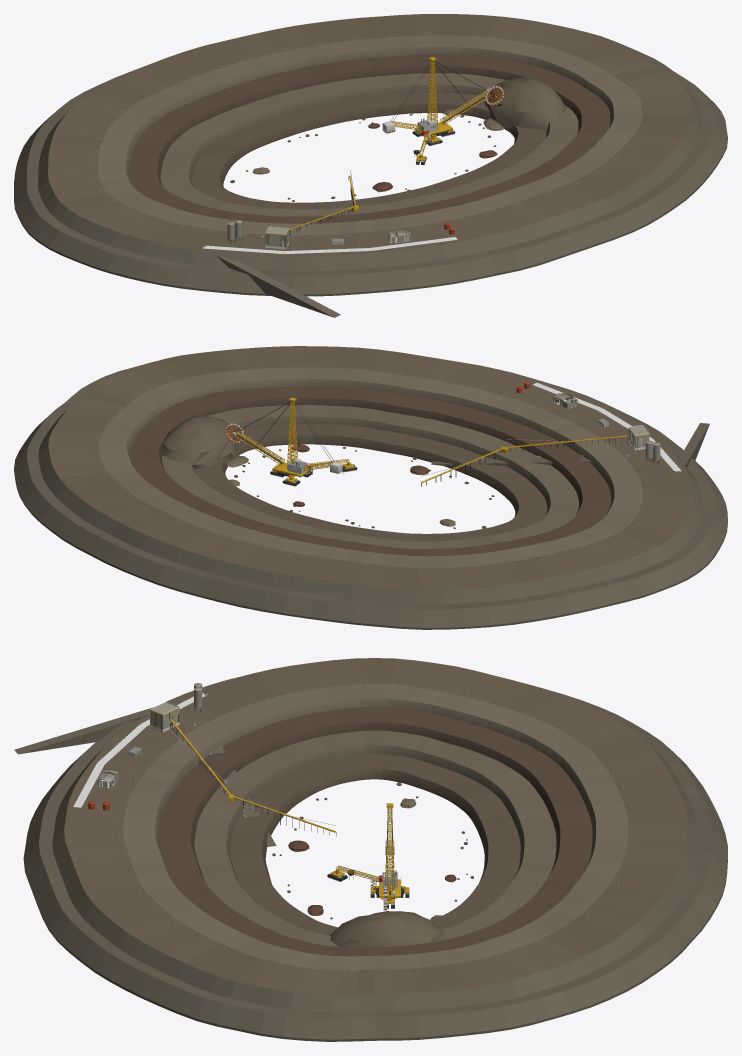
Rendered from bucket-wheel-pit.glb.
3 renders of one model, top to bottom at view 1: azimuth 30°, elevation 25°; view 2: azimuth 150°, elevation 25°; view 3: azimuth 270°, elevation 25°, orthographic. The views are drawn at different scales.
Visible parts, largest first — view 1: C2_0_lod0, C-2_-3_lod0, C0_1_lod0, C-3_-3_lod0, C1_-3_lod0, C-4_-1_lod0, C-1_1_lod0, C1_1_lod0, C-1_-3_lod0, C-4_-2_lod0, C0_-3_lod0, C-2_1_lod0 (+31 smaller); view 2: C2_0_lod0, C-2_2_lod0, C0_-2_lod0, C1_2_lod0, C-3_2_lod0, C-4_0_lod0, C-1_-2_lod0, C1_-2_lod0, C-1_2_lod0, C-2_-2_lod0, C0_2_lod0, C-4_-1_lod0 (+35 smaller); view 3: C3_-1_lod0, C3_0_lod0, C-3_-1_lod0, C-3_0_lod0, C1_2_lod0, C2_0_lod0, C3_-2_lod0, C1_-3_lod0, C-2_-2_lod0, C-2_1_lod0, C-3_1_lod0, C3_1_lod0 (+33 smaller).
Boxes of the visible parts, x1=… form: C2_0_lod0: x1=484, y1=46, x2=612, y2=129; C-2_-3_lod0: x1=284, y1=218, x2=426, y2=295; C0_1_lod0: x1=276, y1=51, x2=398, y2=126; C-3_-3_lod0: x1=201, y1=228, x2=340, y2=317; C1_-3_lod0: x1=530, y1=161, x2=661, y2=239; C-4_-1_lod0: x1=50, y1=192, x2=177, y2=272; C-1_1_lod0: x1=195, y1=73, x2=322, y2=139; C1_1_lod0: x1=368, y1=32, x2=477, y2=105; C-1_-3_lod0: x1=370, y1=204, x2=506, y2=266; C-4_-2_lod0: x1=108, y1=223, x2=217, y2=290; C0_-3_lod0: x1=463, y1=183, x2=587, y2=246; C-2_1_lod0: x1=120, y1=91, x2=254, y2=150; C2_0_lod0: x1=98, y1=407, x2=239, y2=469; C-2_2_lod0: x1=311, y1=549, x2=421, y2=628; C0_-2_lod0: x1=340, y1=382, x2=460, y2=457; C1_2_lod0: x1=76, y1=492, x2=206, y2=570; C-3_2_lod0: x1=400, y1=567, x2=513, y2=629; C-4_0_lod0: x1=557, y1=523, x2=686, y2=601; C-1_-2_lod0: x1=415, y1=405, x2=539, y2=470; C1_-2_lod0: x1=261, y1=367, x2=372, y2=436; C-1_2_lod0: x1=231, y1=535, x2=351, y2=598; C-2_-2_lod0: x1=431, y1=417, x2=632, y2=480; C0_2_lod0: x1=149, y1=514, x2=274, y2=577; C-4_-1_lod0: x1=598, y1=493, x2=726, y2=556; C3_-1_lod0: x1=255, y1=962, x2=374, y2=1041; C3_0_lod0: x1=374, y1=961, x2=493, y2=1040; C-3_-1_lod0: x1=253, y1=685, x2=374, y2=759; C-3_0_lod0: x1=374, y1=685, x2=494, y2=760; C1_2_lod0: x1=574, y1=871, x2=709, y2=952; C2_0_lod0: x1=329, y1=911, x2=490, y2=969; C3_-2_lod0: x1=160, y1=954, x2=276, y2=1035; C1_-3_lod0: x1=42, y1=871, x2=173, y2=951; C-2_-2_lod0: x1=143, y1=719, x2=280, y2=846; C-2_1_lod0: x1=471, y1=734, x2=603, y2=809; C-3_1_lod0: x1=472, y1=680, x2=612, y2=751; C3_1_lod0: x1=472, y1=958, x2=590, y2=1032.
Size of what is drawn, in the model's own units: 1040 by 124 by 845.
